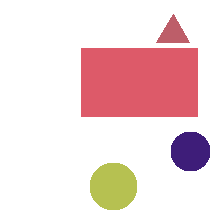circle: (90, 163, 136, 209), (171, 132, 209, 170)
rectangle: (81, 48, 197, 116)
triangle: (156, 14, 189, 42)
